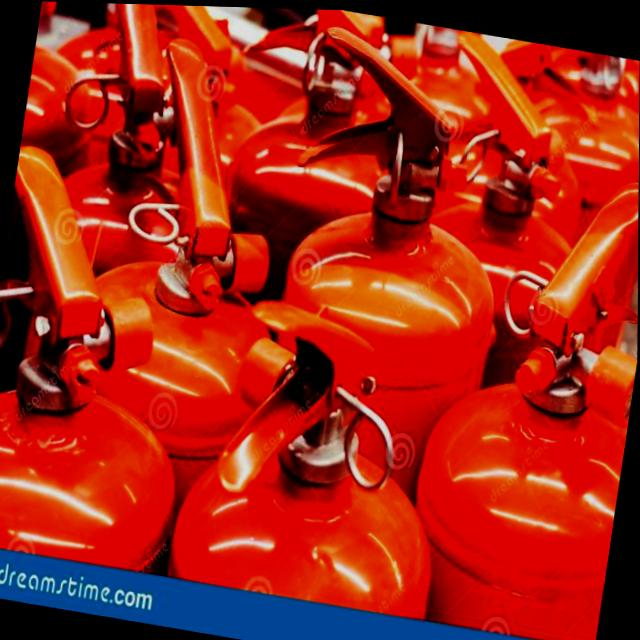FireExtinguisher: (216, 13, 542, 623), (19, 18, 331, 590), (165, 4, 438, 612), (352, 20, 636, 579), (392, 138, 639, 640), (158, 277, 477, 623), (0, 135, 231, 581)
